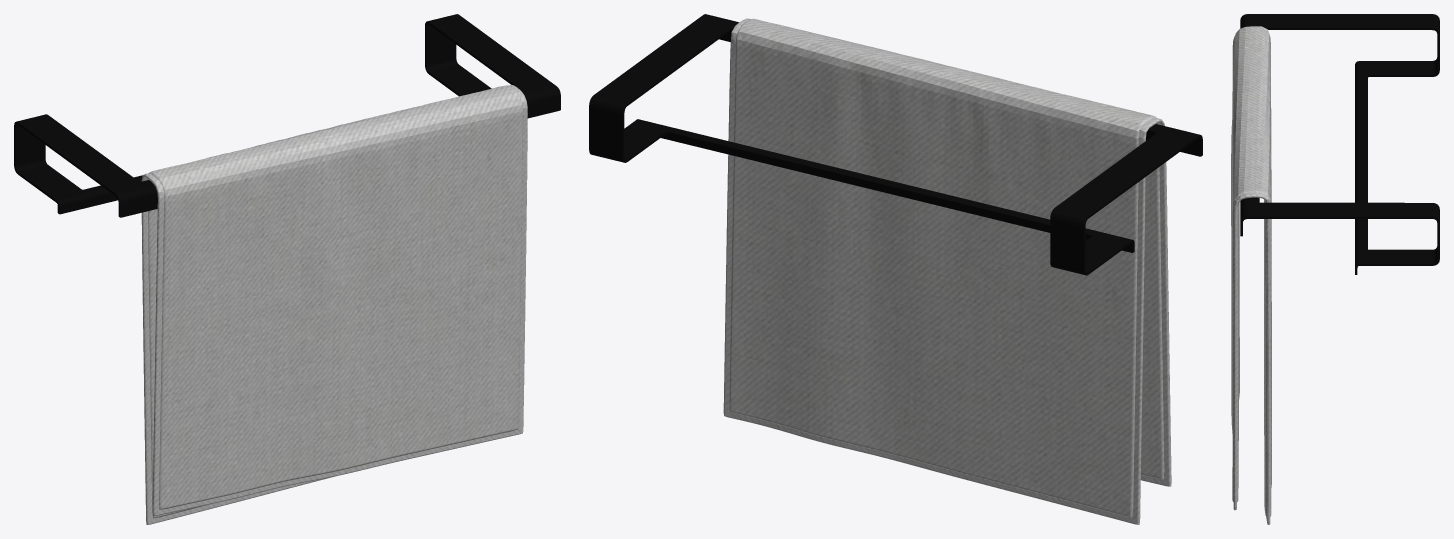
File: towel-holder-32.obj
The picture shows the model from 3 angles, left to right: view 1: azimuth 30°, elevation 25°; view 2: azimuth 150°, elevation 25°; view 3: azimuth 270°, elevation 25°; orthographic projection. The views are drawn at different scales.
Parts seen in each view (by area): view 1: Bathroom_accessories_024; view 2: Bathroom_accessories_024; view 3: Bathroom_accessories_024.
Boxes of the visible parts, box(x1,y1,x2,y2) form: Bathroom_accessories_024: box(14, 14, 560, 524); Bathroom_accessories_024: box(589, 14, 1202, 524); Bathroom_accessories_024: box(1231, 14, 1439, 524).
Size of the model in its own units: 37 by 28.56 by 16.11.
Materials: 2 (1 with a texture image).
